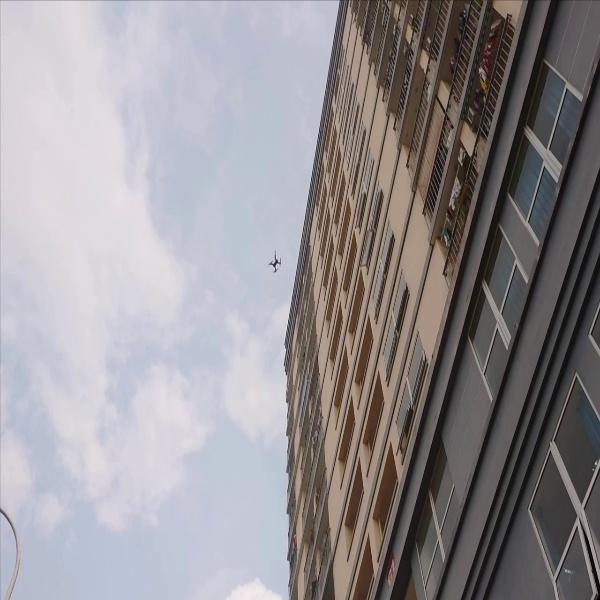drone: (263, 249, 284, 273)
